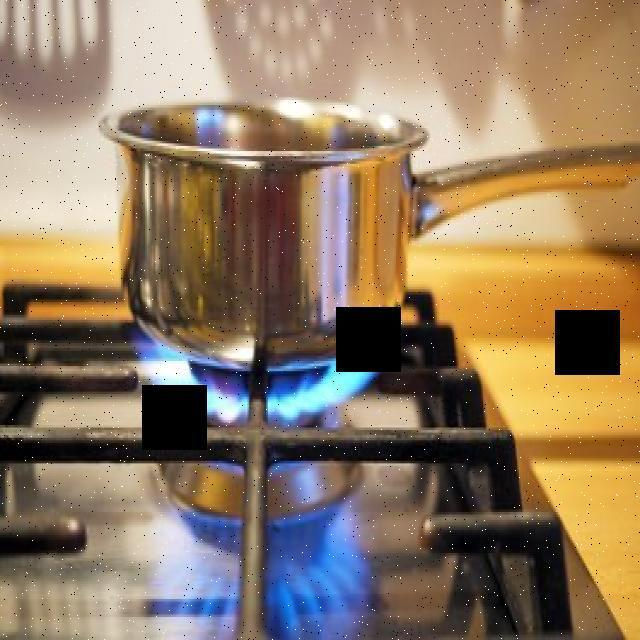Flame: (127, 346, 375, 432)
Pan: (75, 93, 640, 357)
